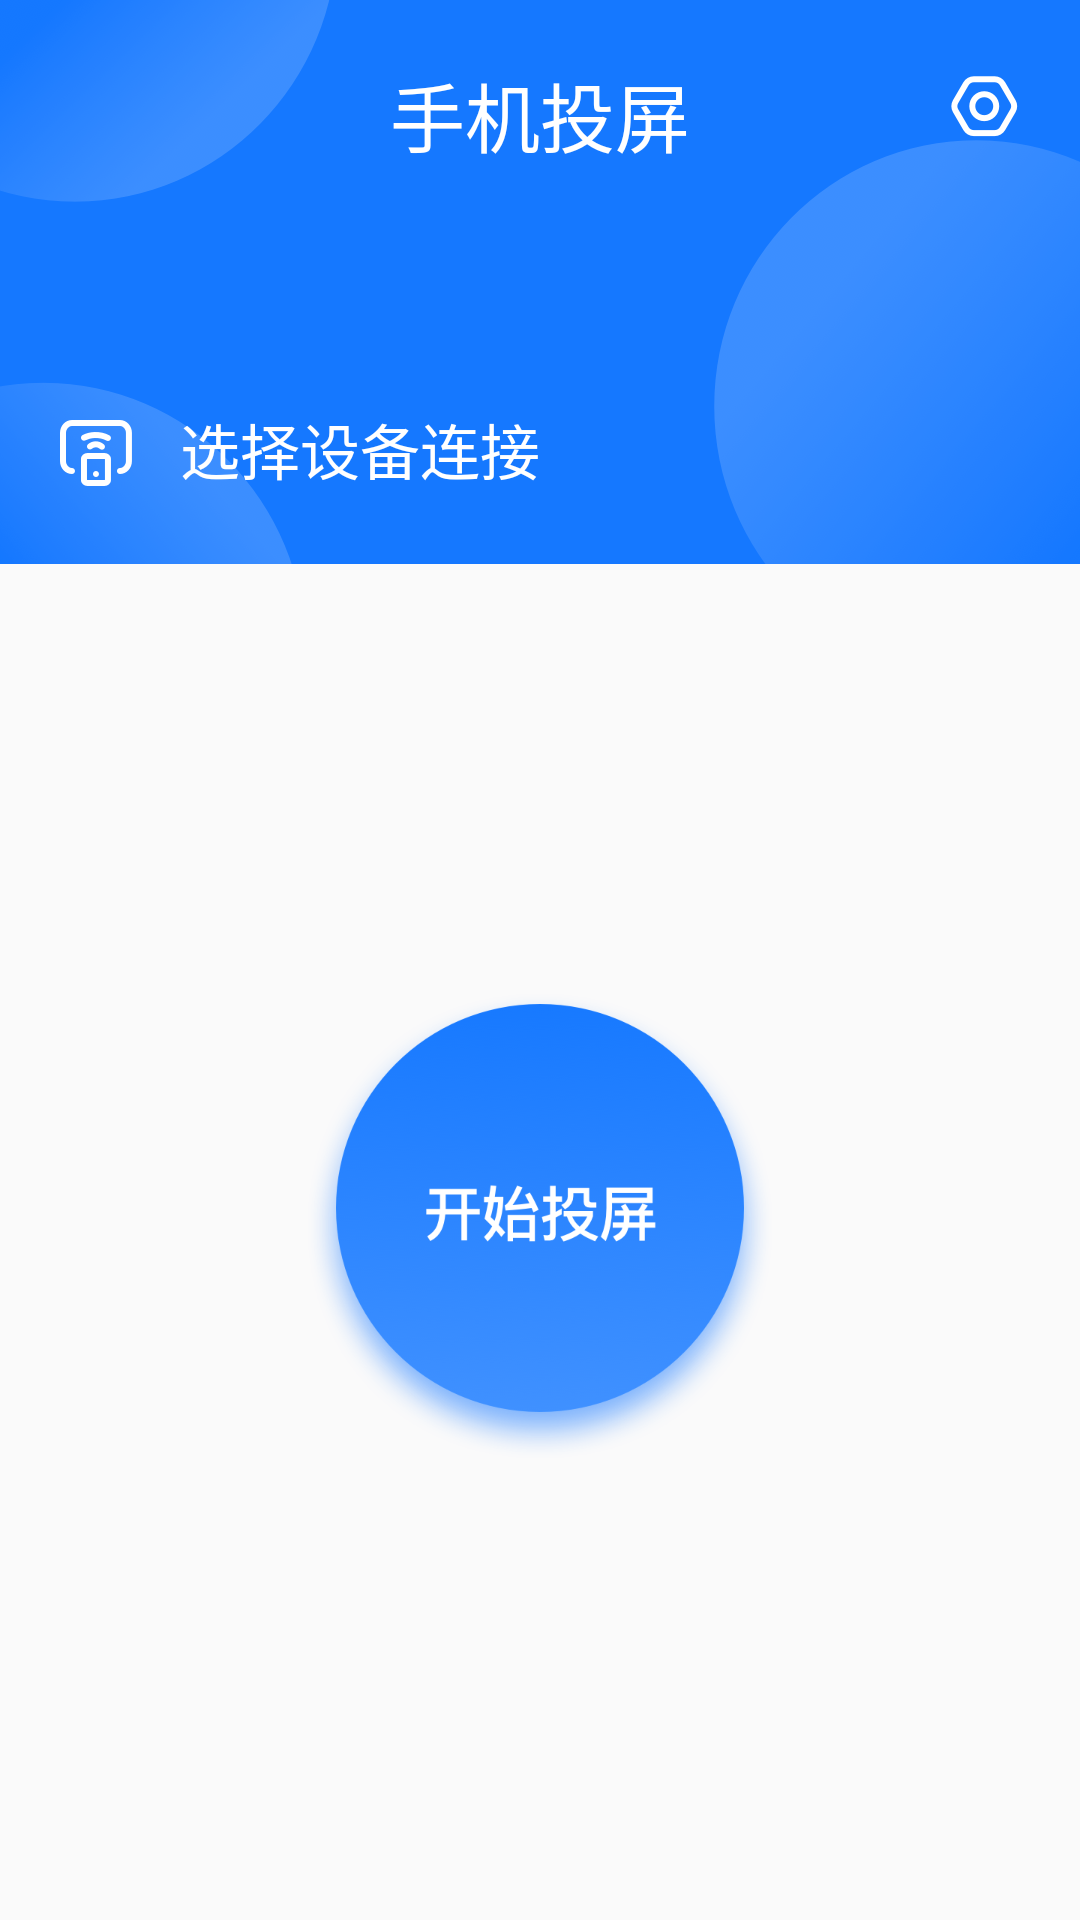

Locate icon controls on the screen. Image size 1080x1920, boxes as (x1, y1, x2, y2).
setting: (951, 76, 1018, 137)
